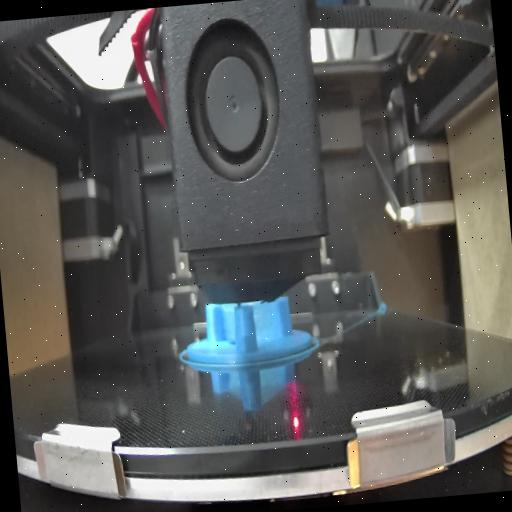stringing: (254, 300, 284, 347), (207, 304, 237, 344)
